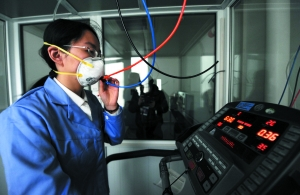face_mask: (68, 30, 104, 86)
